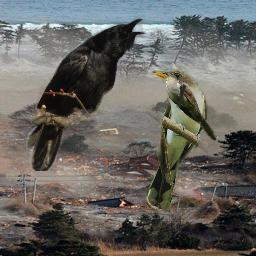Crow: (25, 15, 148, 171)
Cuckoo: (146, 69, 208, 210), (165, 72, 218, 141)
